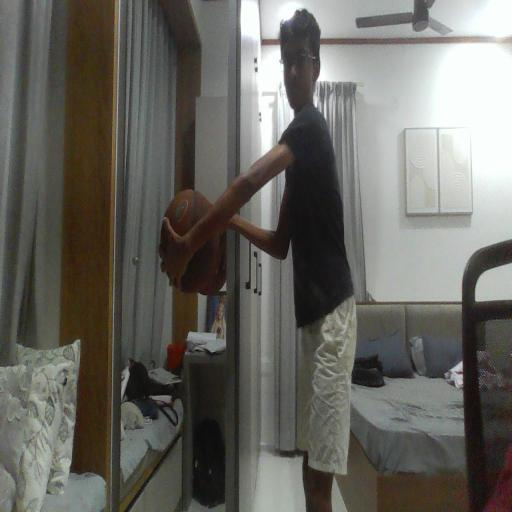basketball: (182, 233, 225, 295)
